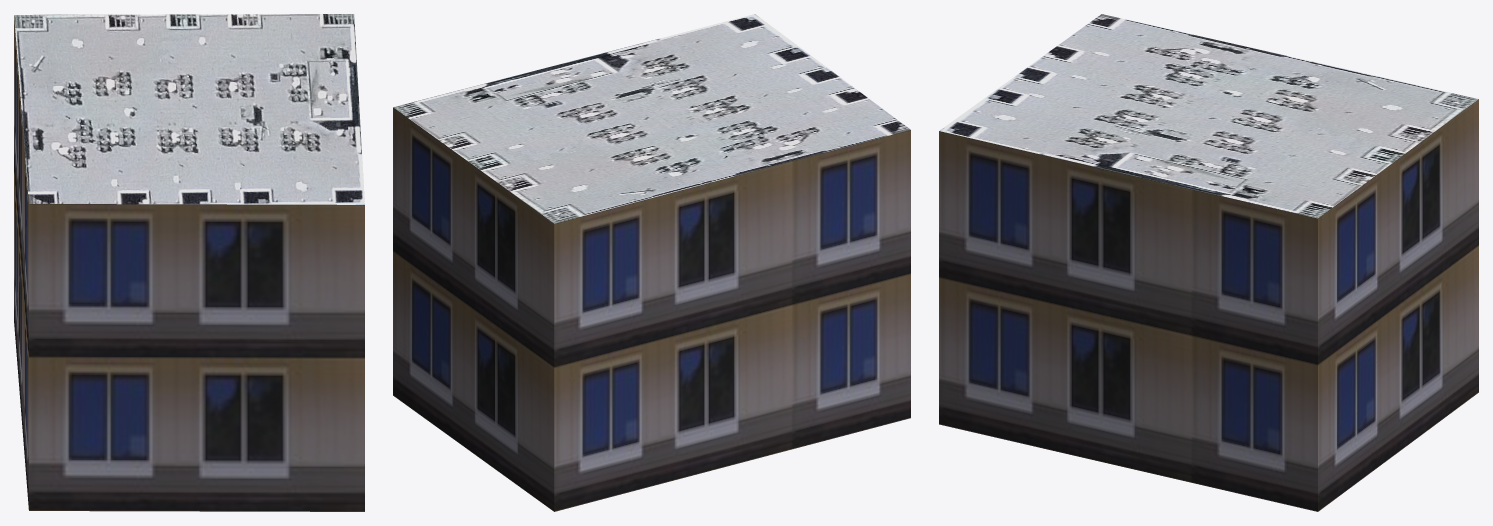
The model's file is ResTex__1124.fbx.
The picture shows the model from 3 angles, left to right: view 1: azimuth 30°, elevation 25°; view 2: azimuth 150°, elevation 25°; view 3: azimuth 270°, elevation 25°; orthographic projection. The views are drawn at different scales.
Parts seen in each view (by area): view 1: CityEngineMaterial_5_m, CityEngineMaterial_m; view 2: CityEngineMaterial_5_m, CityEngineMaterial_m; view 3: CityEngineMaterial_5_m, CityEngineMaterial_m.
Part boxes in pixels (<box>): CityEngineMaterial_5_m: <box>14,16,364,511</box>; CityEngineMaterial_m: <box>14,14,364,204</box>; CityEngineMaterial_5_m: <box>393,107,910,511</box>; CityEngineMaterial_m: <box>393,14,910,223</box>; CityEngineMaterial_5_m: <box>939,99,1478,511</box>; CityEngineMaterial_m: <box>939,14,1478,218</box>.
Bounding box in the file's own units: 8.97 × 6 × 10.
2 materials, 2 textured.
